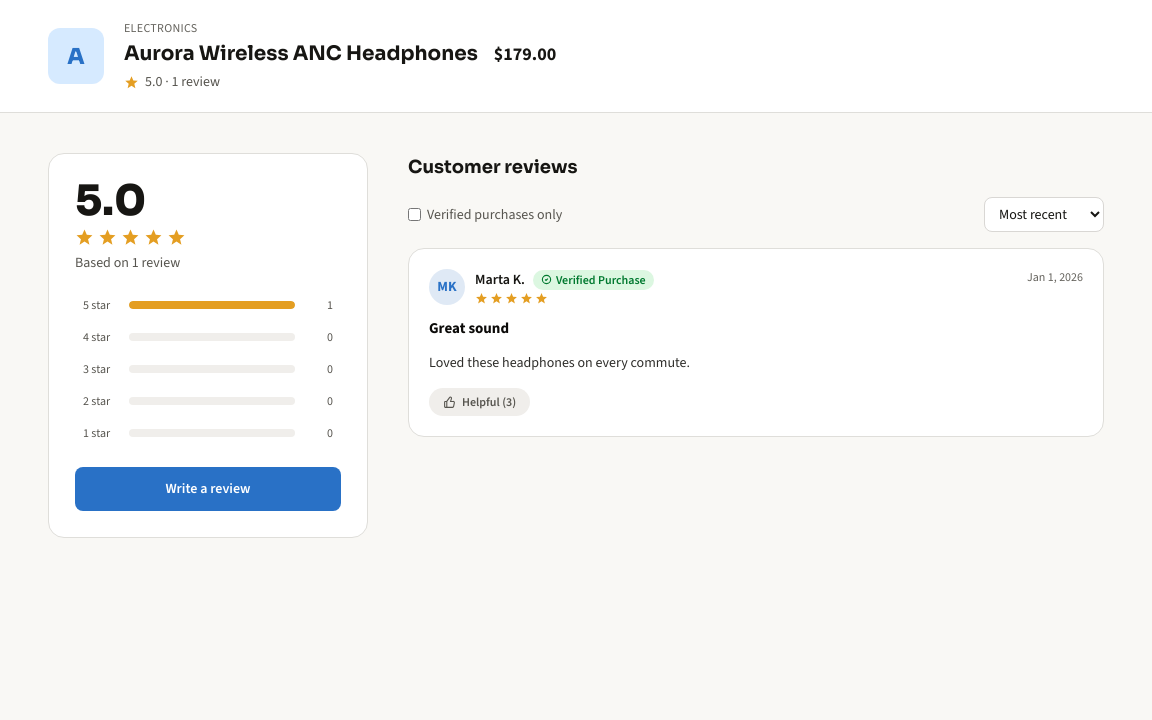
Scenario: ProductPage › casts a helpful vote and shows the updated count
Click the button "Helpful (3)" at point(480, 402), box [429,388,530,416]
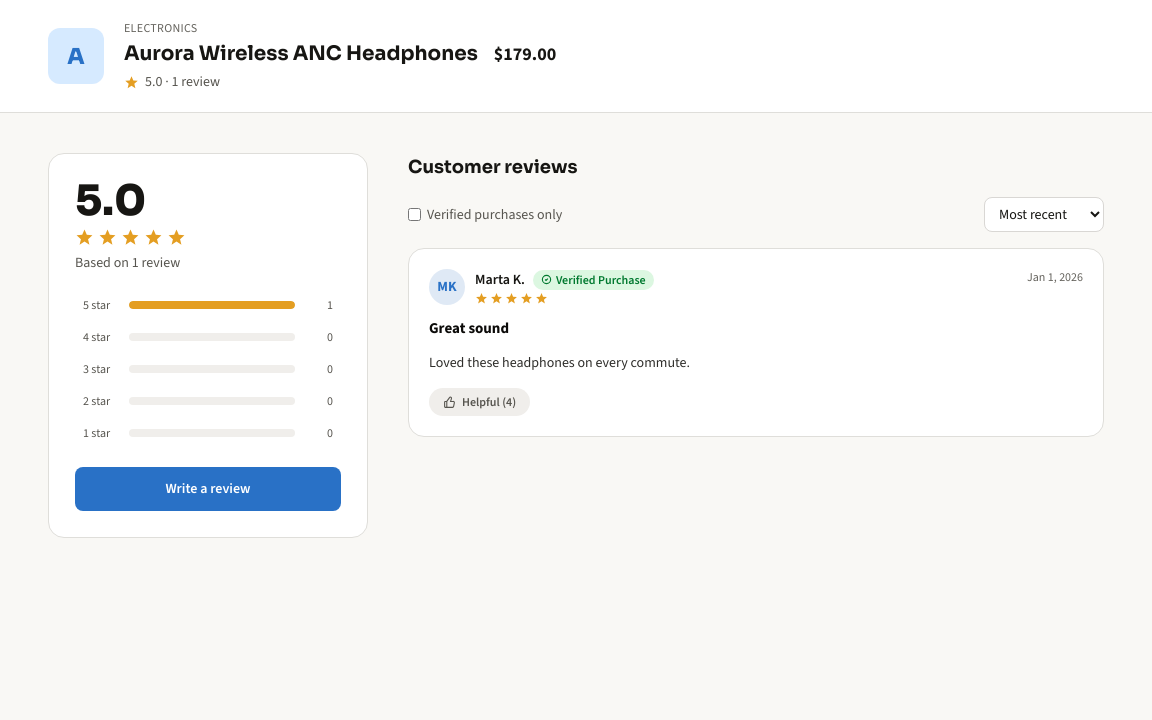
Check: the button "Helpful (4)" is shown, box [429,388,530,416]
